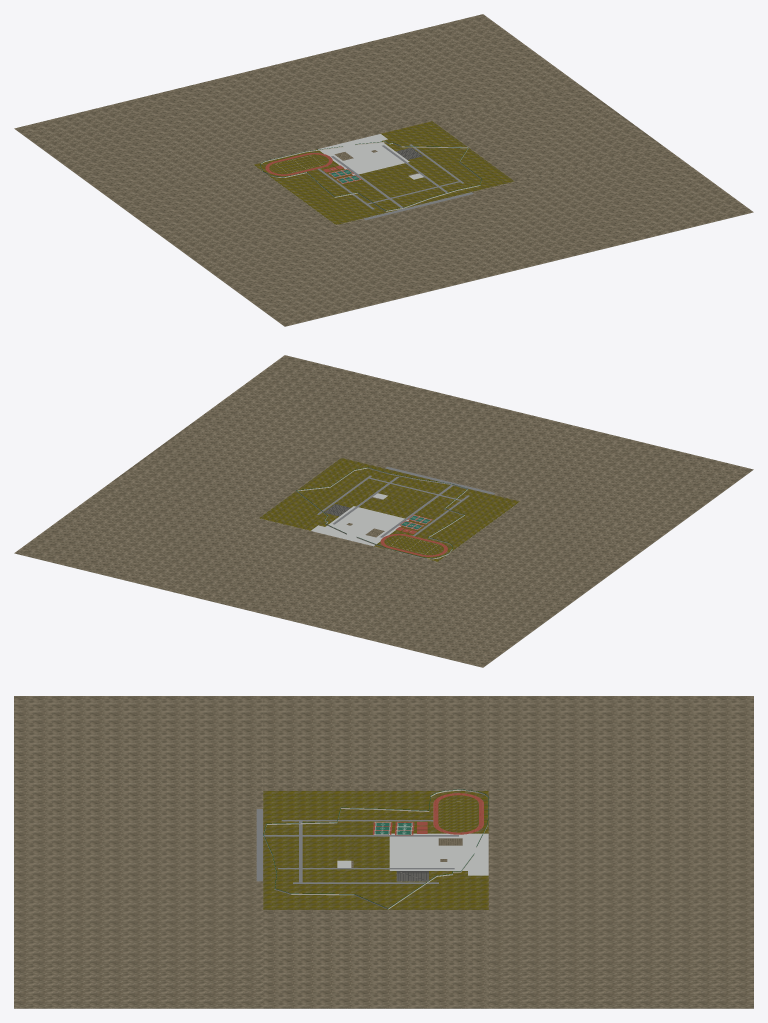
The model's file is r2_terrain_surround.glb.
3 views of the same model, one above another, from view 1: azimuth 30°, elevation 25°; view 2: azimuth 150°, elevation 25°; view 3: azimuth 270°, elevation 25° (orthographic). The views are drawn at different scales.
Parts seen in each view (by area): view 1: r2_campus_terrain_surround; view 2: r2_campus_terrain_surround; view 3: r2_campus_terrain_surround.
Part boxes in pixels (x1=…): r2_campus_terrain_surround: x1=14, y1=14, x2=753, y2=326; r2_campus_terrain_surround: x1=14, y1=355, x2=753, y2=667; r2_campus_terrain_surround: x1=14, y1=696, x2=753, y2=1008.
Size of the model in its own units: 1300 by 3.01 by 1300.
10 materials, 7 textured.
